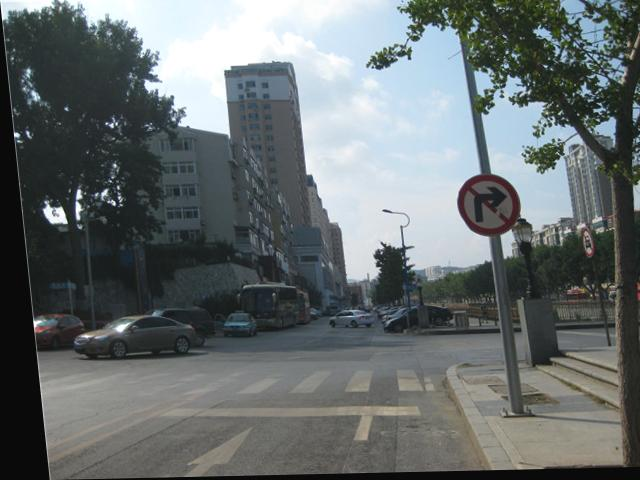not_turn_right: (449, 175, 520, 241)
